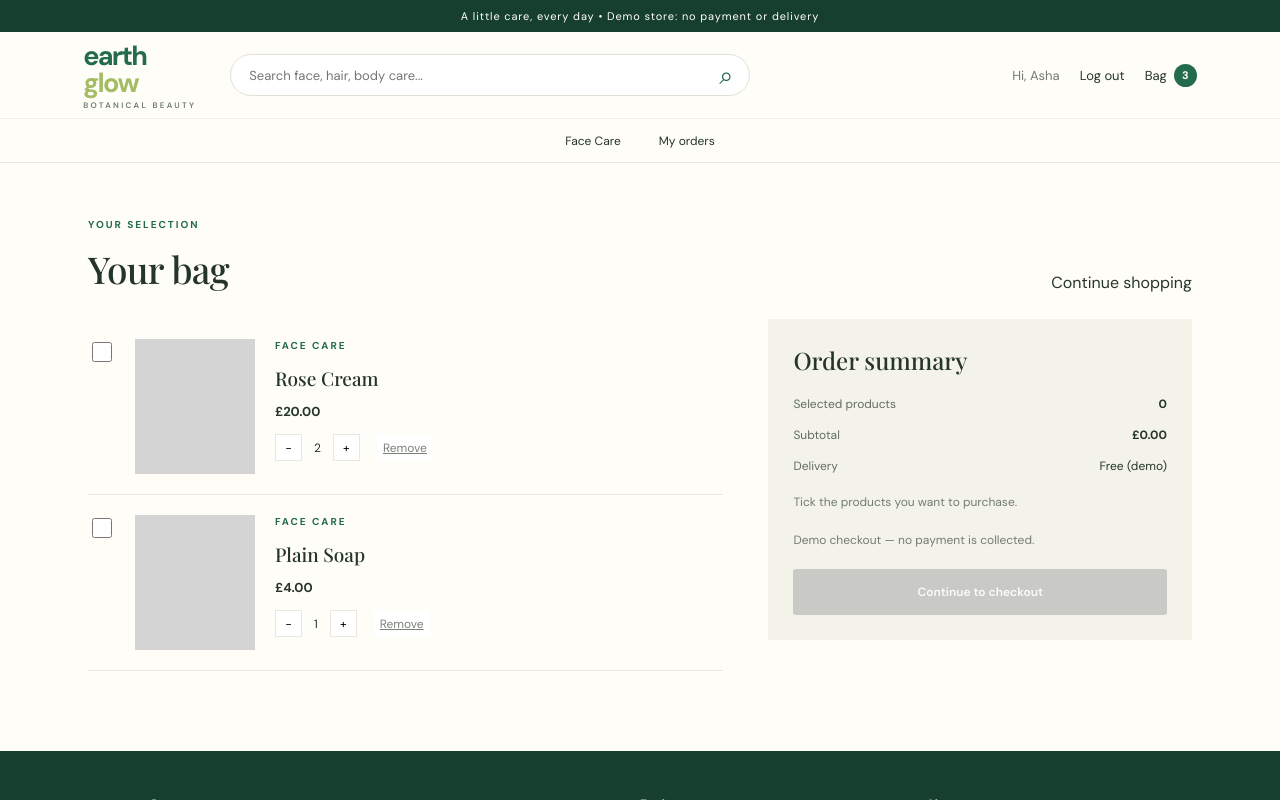
it: bag and checkout › orders only the ticked products and never sends a price
Click the checkbox named "Select Rose Cream". click: (102, 352)
box: [92,342,112,362]
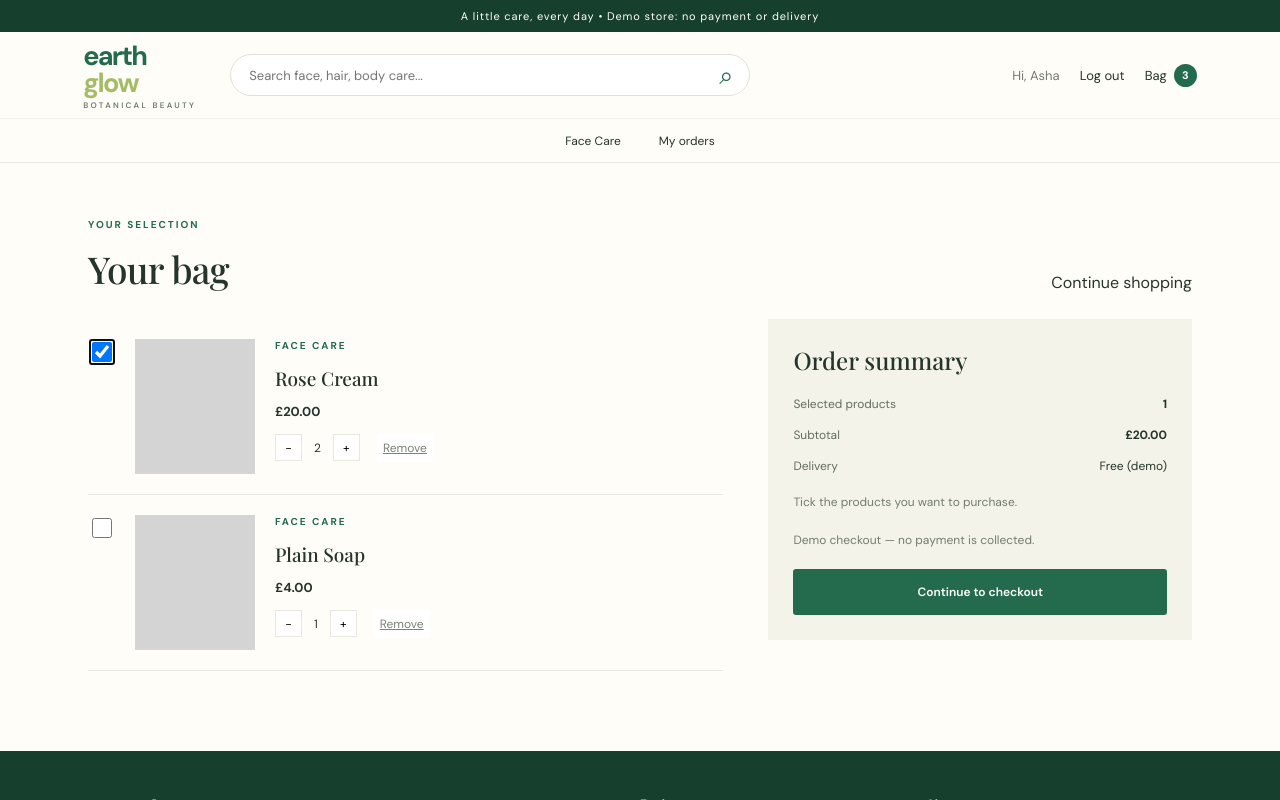
Click the button "Continue to checkout". click: (980, 592)
box: [793,569,1167,615]
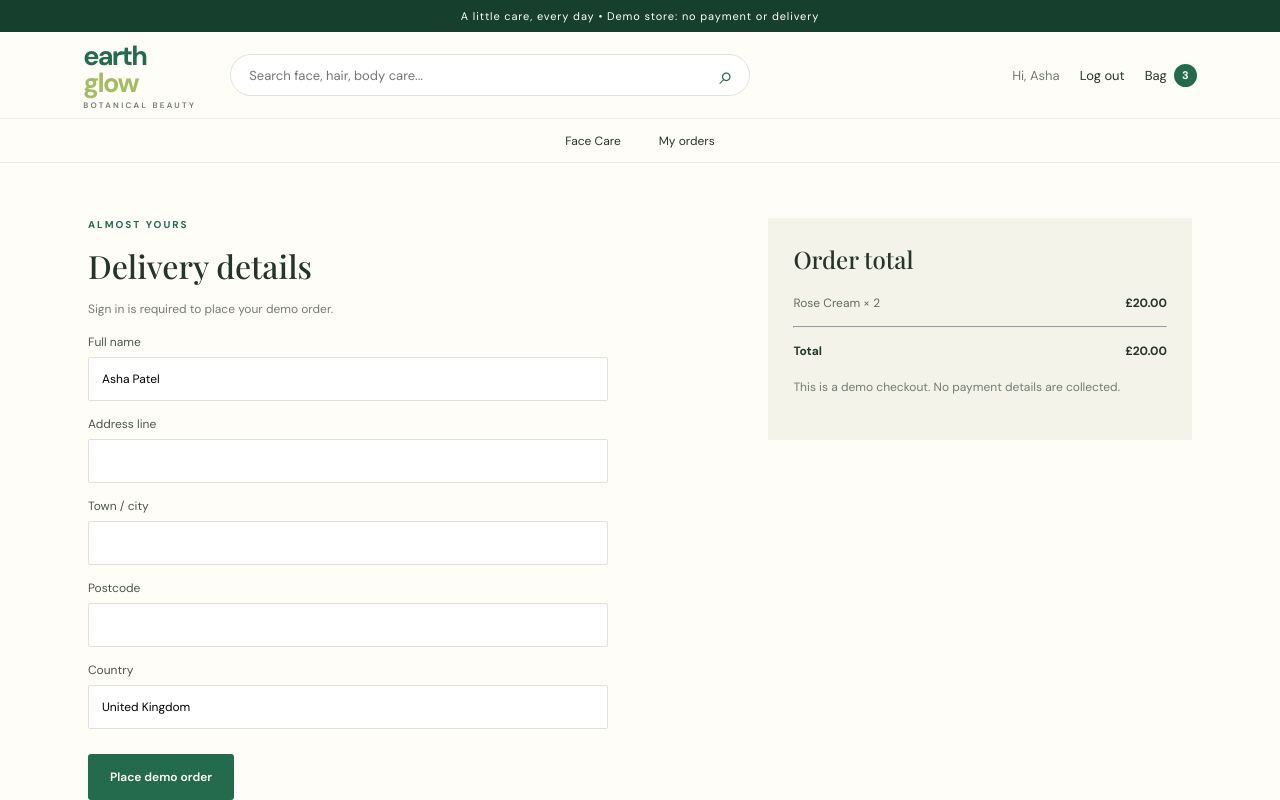
Type "1 Test Street" into the field labelled "Address line". click: (348, 461)
box: [88,439,608,483]
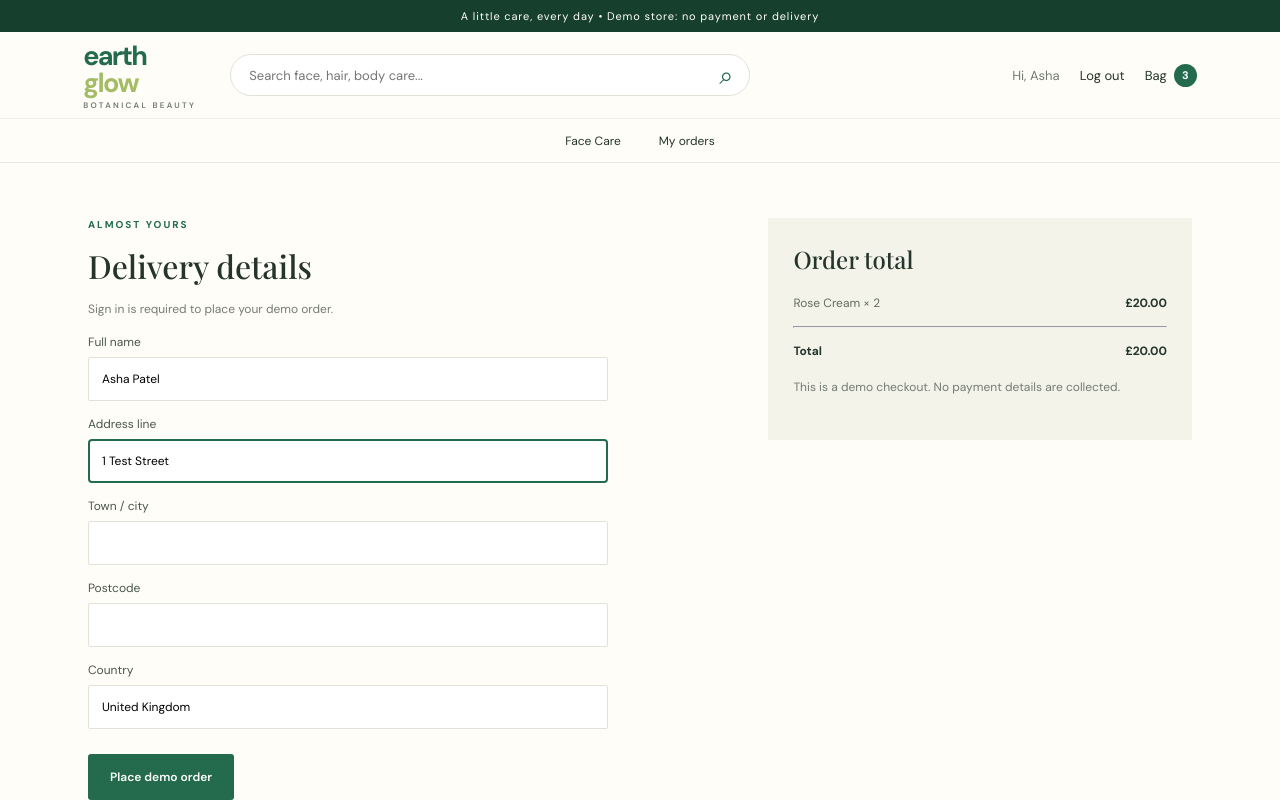
Type "London" into the field labelled "Town / city". click: (348, 543)
box: [88,521,608,565]
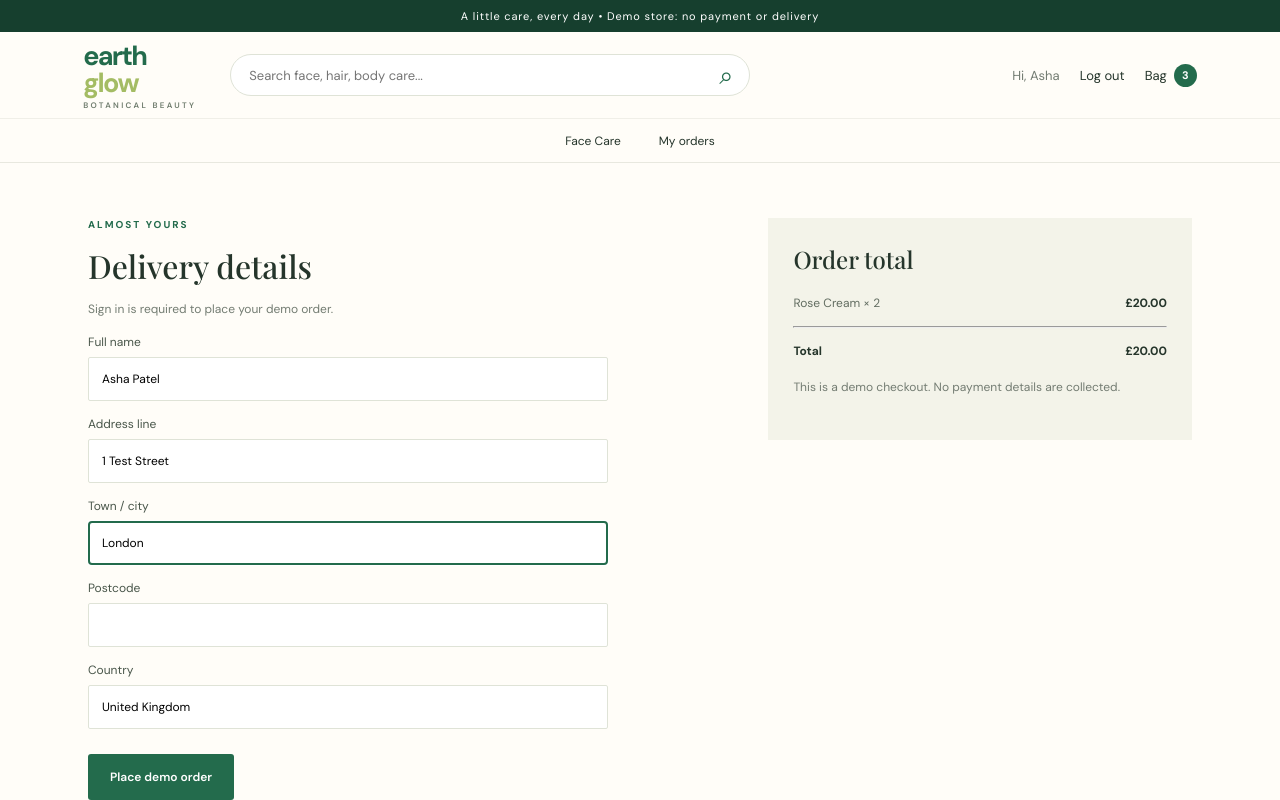
Type "E1 1AA" into the field labelled "Postcode". click: (348, 625)
box: [88,603,608,647]
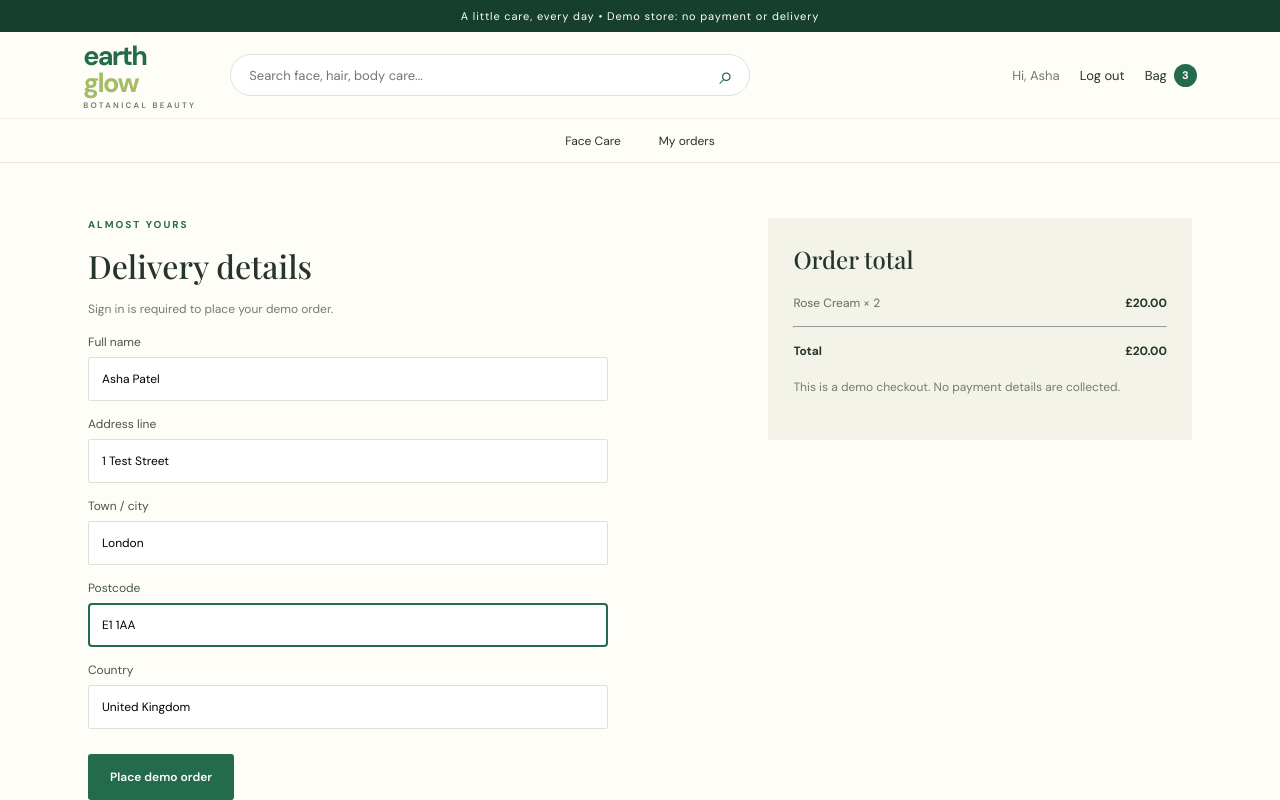
Click the button "Place demo order". click: (161, 777)
box: [88,754,234,799]
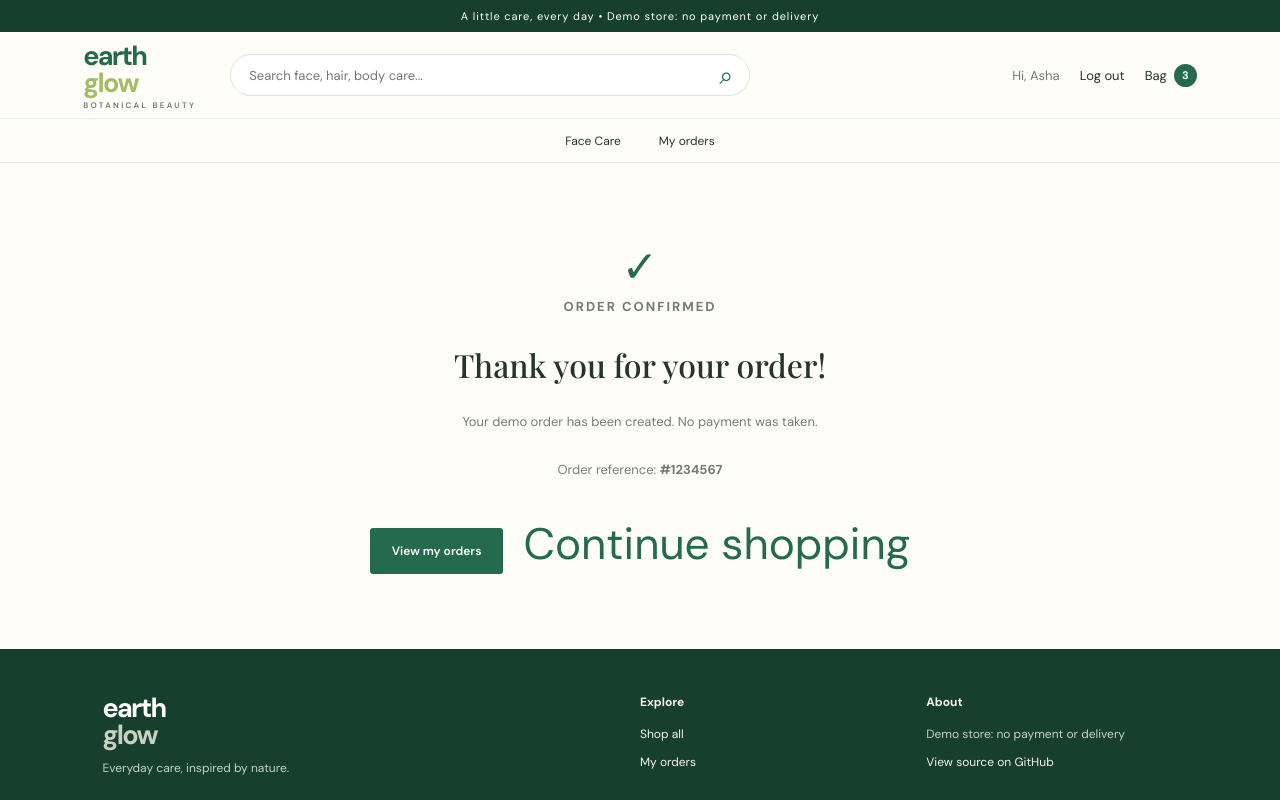
Now the heading "Thank you for your order!" is shown, box [454,343,826,386]
